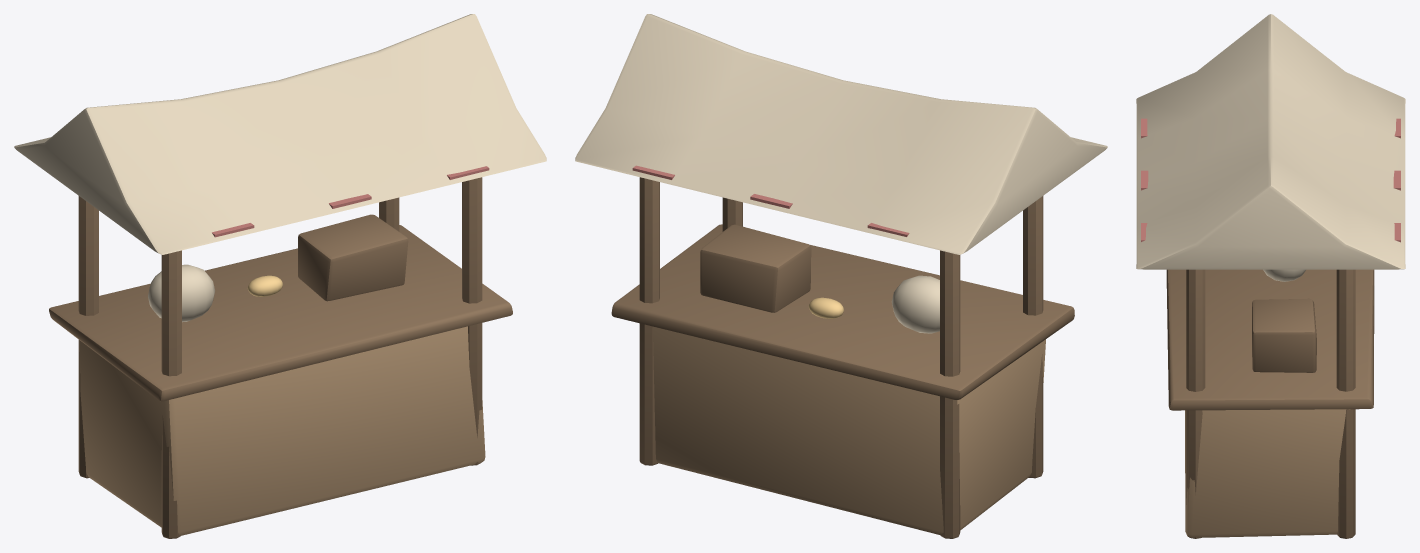
File: market_stall.glb
3 views of the same model, side by side, from view 1: azimuth 30°, elevation 25°; view 2: azimuth 150°, elevation 25°; view 3: azimuth 270°, elevation 25° (orthographic). The views are drawn at different scales.
Visible parts, largest first — view 1: market_stall; view 2: market_stall; view 3: market_stall.
Boxes of the visible parts, <box> form: market_stall: <box>14,14,546,538</box>; market_stall: <box>575,14,1107,538</box>; market_stall: <box>1136,14,1405,538</box>.
Size of what is drawn, in the model's own units: 3 by 2.98 by 1.97.
